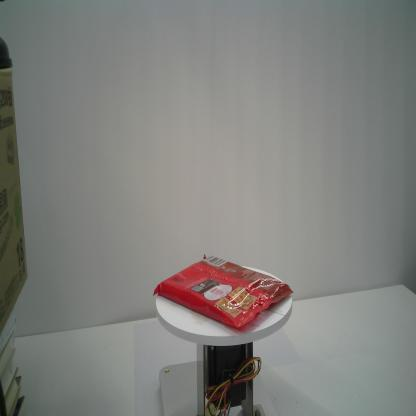Dessert: (152, 253, 294, 329)
